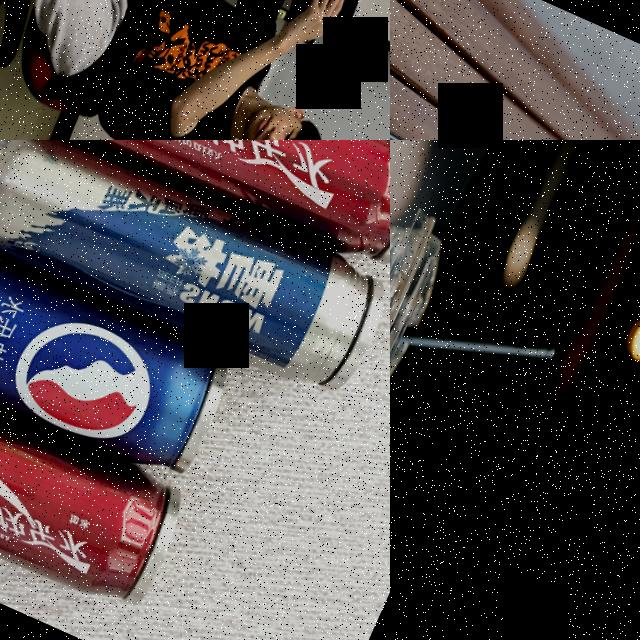can: (0, 140, 390, 407), (0, 235, 238, 488), (0, 140, 390, 284), (0, 366, 191, 621)
cup: (390, 140, 467, 569)
